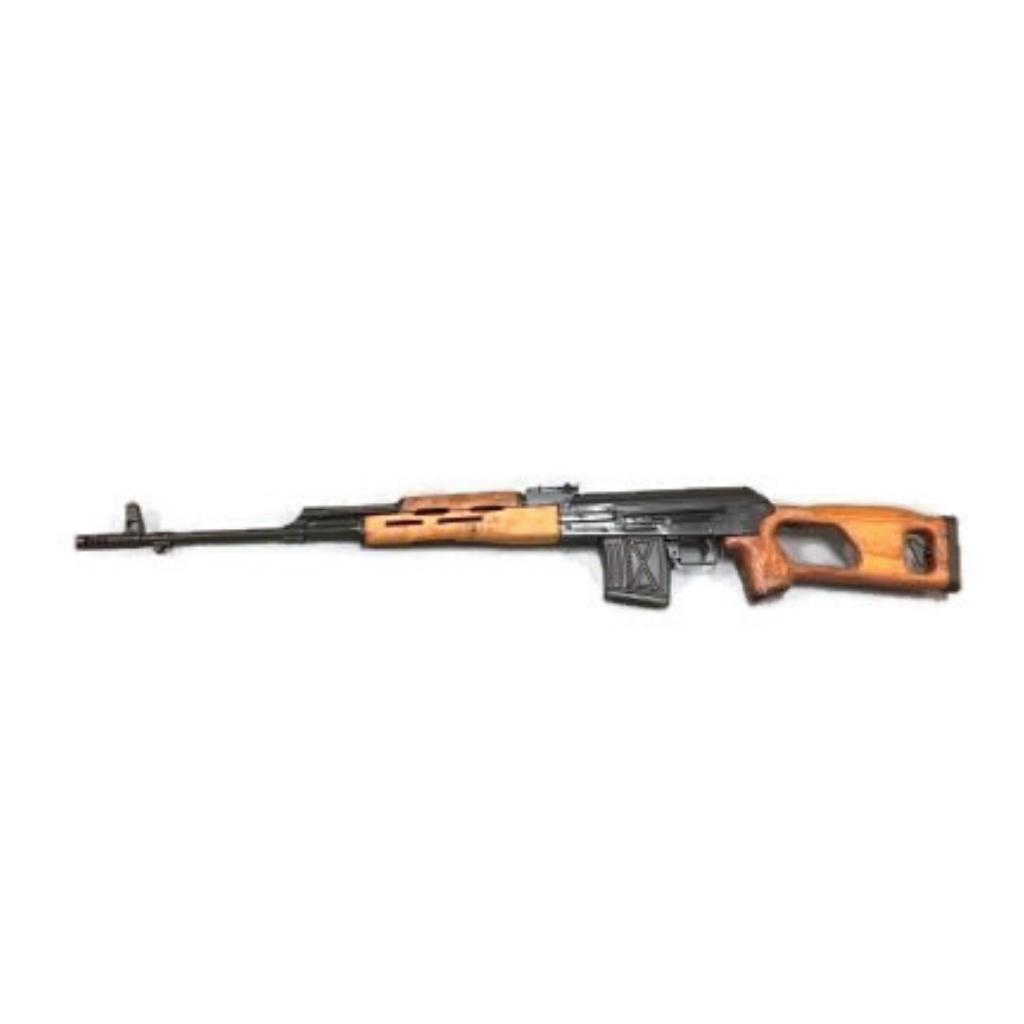larga: (75, 480, 963, 612)
